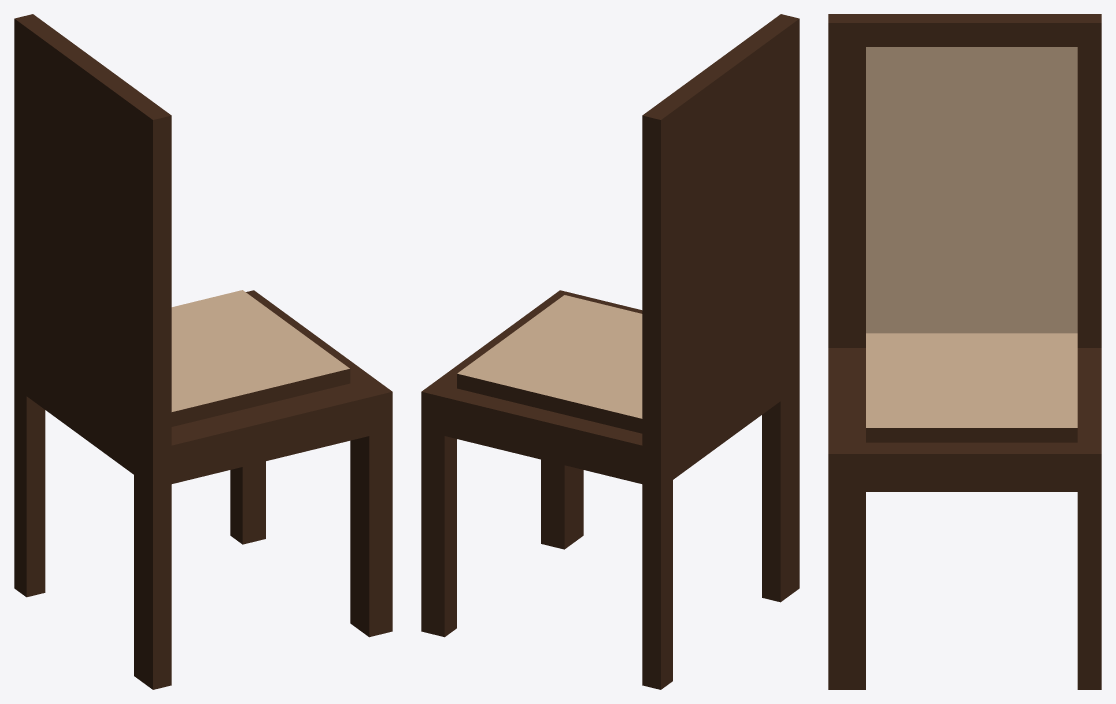
The model's file is chairblend.fbx.
The picture shows the model from 3 angles, left to right: view 1: azimuth 30°, elevation 25°; view 2: azimuth 150°, elevation 25°; view 3: azimuth 270°, elevation 25°; orthographic projection.
Visible parts, largest first — view 1: Cube; view 2: Cube; view 3: Cube.
Boxes of the visible parts, left/top/right/bottom form: Cube: left=14, top=14, right=392, bottom=689; Cube: left=421, top=14, right=799, bottom=689; Cube: left=828, top=14, right=1101, bottom=689.
Bounding box in the file's own units: 38.98 × 88.6 × 39.09.
